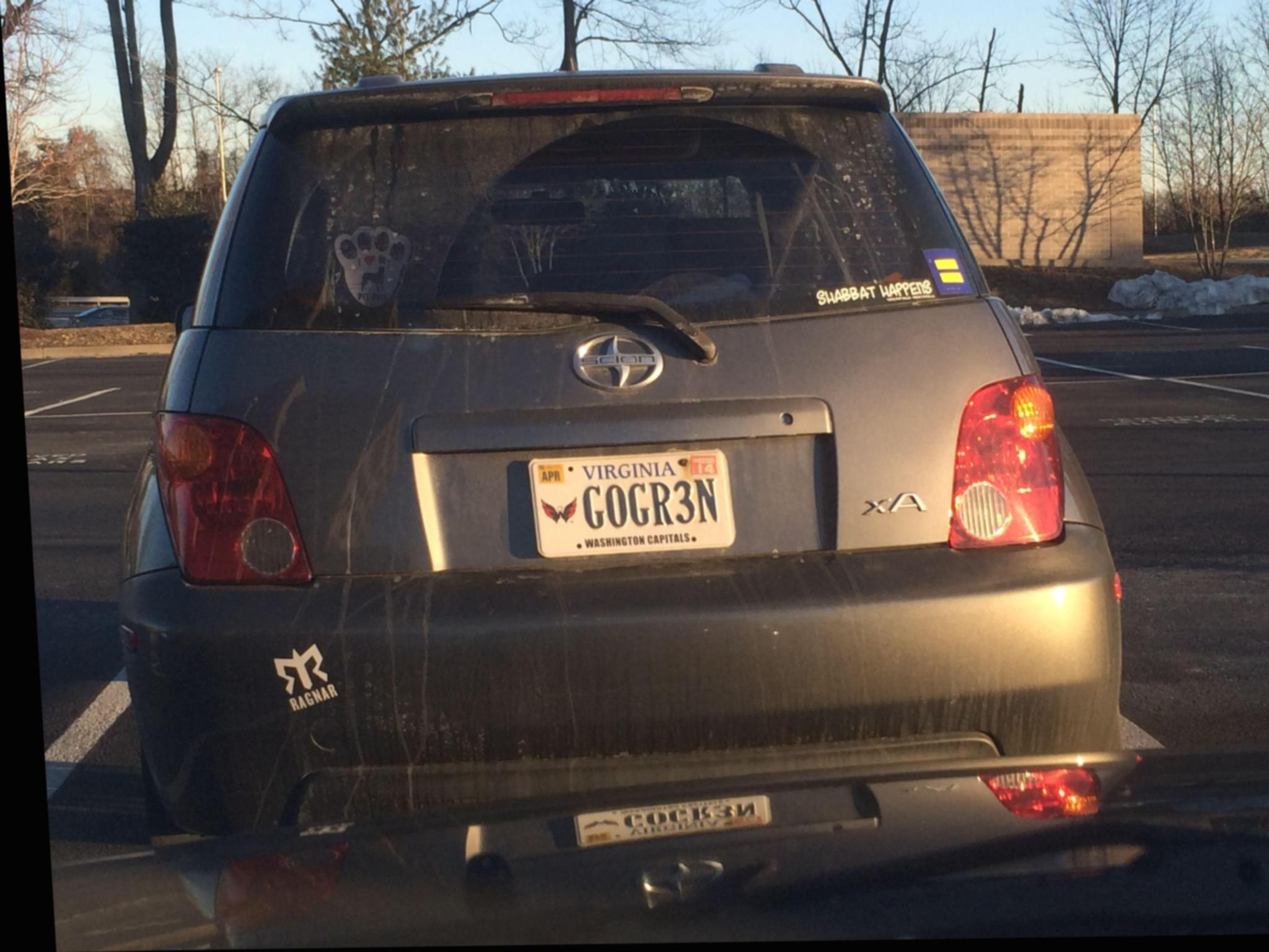License_Plate: (517, 438, 743, 571)
